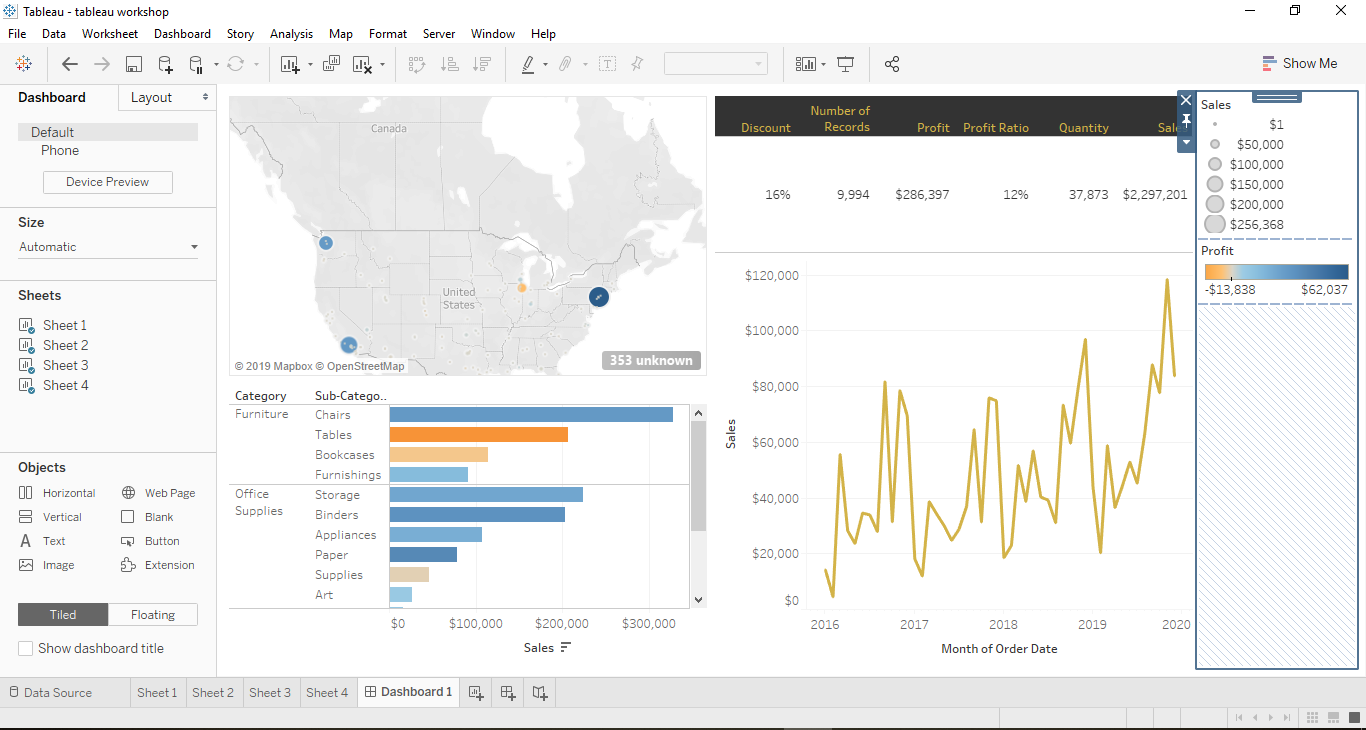

Layout of this report page (visuals, bound fields, positions):
{"tool":"tableau","page":{"name":"Dashboard 1","canvas":[1000,1000],"units":"permille","ordinal":0},"visuals":[{"type":"worksheet","title":"Sheet 2","mark":"Automatic","box":[7,13.5,423.3,486.5]},{"type":"worksheet","title":"Sheet 4","mark":"Automatic","box":[430.3,13.5,423.4,278.7]},{"type":"legend","title":"Sheet 2","param":"[Sample - Superstore].[sum:Sales:qk]","box":[853.7,13.5,139.4,246.6]},{"type":"legend","title":"Sheet 2","param":"[Sample - Superstore].[sum:Profit:qk]","box":[853.7,260.1,139.4,109.8]},{"type":"worksheet","title":"Sheet 3","mark":"Line","rows":["Sales"],"cols":["Order Date"],"box":[430.3,292.2,423.4,694.3]},{"type":"worksheet","title":"Sheet 1","mark":"Automatic","rows":["Category","Sub-Category"],"cols":["Sales"],"box":[7,500,423.3,486.5]}]}

Visuals, with their boxes on the dashboard's canvas, which has no fixed pixel size, in thousandths of its width and height (x1, y1, x2, y2). These are canvas units, not pixel positions in the 1366x730 screenshot, which may show the page scaled, cropped or inside an application window:
"Sheet 2" worksheet: select_region(7, 14, 430, 500)
"Sheet 4" worksheet: select_region(430, 14, 854, 292)
"Sheet 2" legend: select_region(854, 14, 993, 260)
"Sheet 2" legend: select_region(854, 260, 993, 370)
"Sheet 3" worksheet (Line marks): select_region(430, 292, 854, 986)
"Sheet 1" worksheet: select_region(7, 500, 430, 986)
